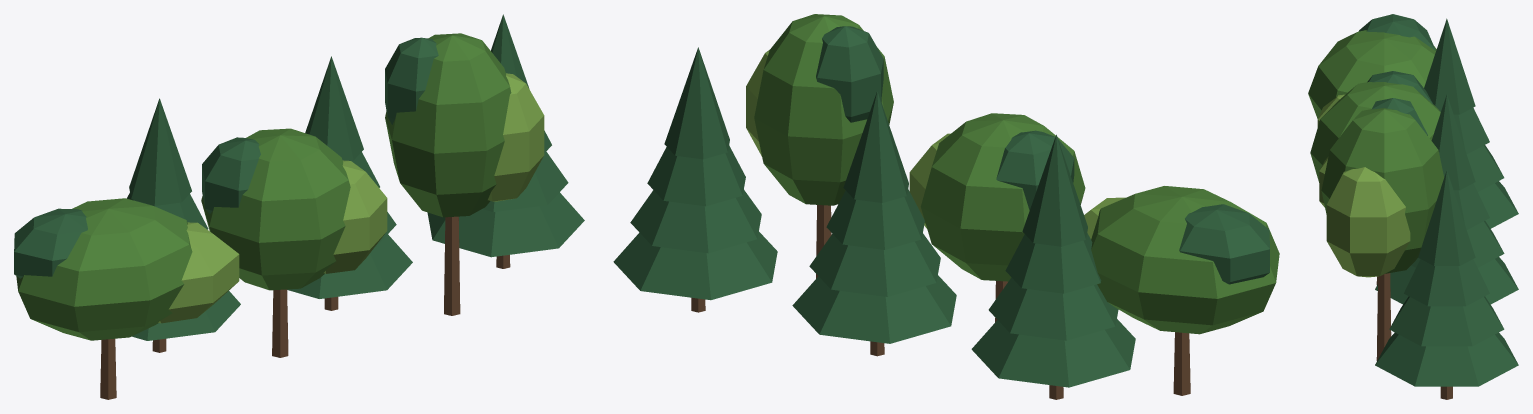
File: TreeBelt.obj
3 renders of one model, left to right at view 1: azimuth 30°, elevation 25°; view 2: azimuth 150°, elevation 25°; view 3: azimuth 270°, elevation 25°, orthographic. The views are drawn at different scales.
Visible parts, largest first — view 1: TreeBelt; view 2: TreeBelt; view 3: TreeBelt.
Part boxes in pixels (<box>): TreeBelt: <box>14,14,584,399</box>; TreeBelt: <box>613,14,1279,399</box>; TreeBelt: <box>1308,14,1518,399</box>.
Bounding box in the file's own units: 13.59 × 6.16 × 4.71.
